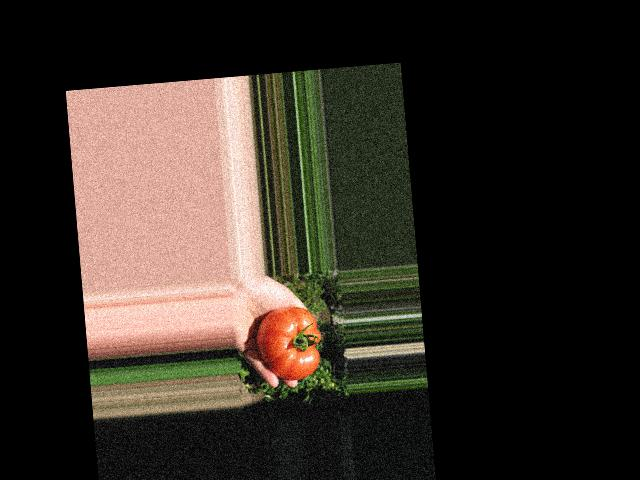tomato: (254, 305, 324, 383)
